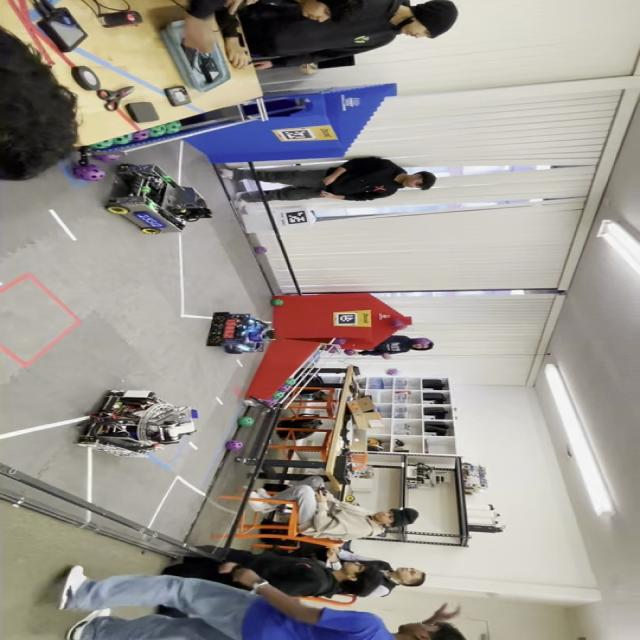artifact_green: (92, 152, 120, 163), (91, 139, 114, 149), (113, 134, 132, 145), (165, 121, 182, 133), (132, 130, 149, 141), (150, 125, 165, 137), (145, 198, 157, 211), (239, 416, 254, 426), (262, 399, 276, 407), (271, 298, 284, 306), (326, 346, 340, 353), (333, 338, 347, 345), (279, 385, 290, 393), (140, 186, 151, 194), (343, 349, 357, 355), (273, 392, 285, 399), (163, 176, 174, 183), (285, 378, 296, 385), (113, 402, 123, 409), (345, 495, 355, 502)
artifact_purple: (74, 165, 105, 181), (93, 154, 122, 163), (132, 130, 149, 141), (226, 440, 244, 450), (392, 318, 404, 327), (254, 246, 267, 254), (273, 391, 284, 400), (264, 399, 276, 407), (386, 368, 399, 375), (271, 298, 284, 305), (279, 385, 290, 393), (285, 378, 296, 386), (335, 338, 347, 345), (328, 346, 340, 353), (344, 349, 356, 355)
